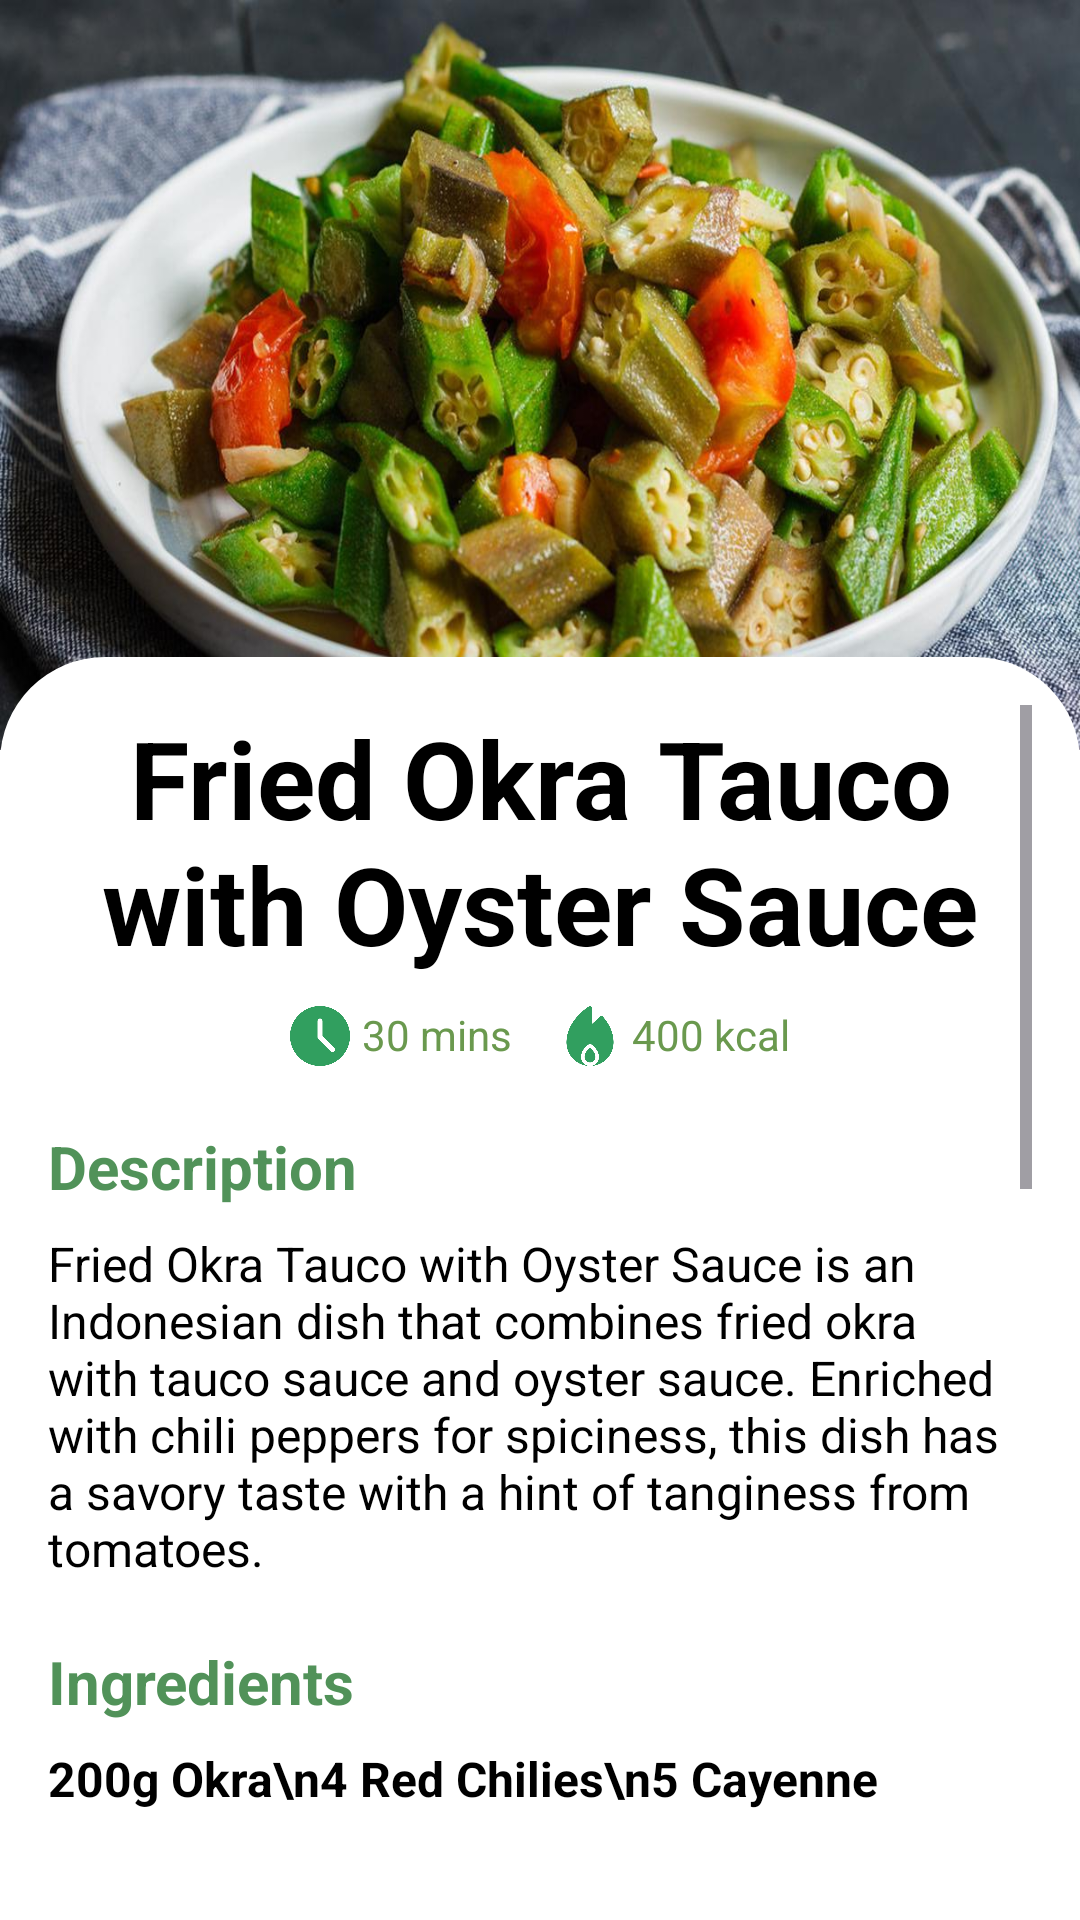

Where icons sit on this 1080 × 1920 app screen, as bbox(x1, y1, x2, y2):
calicon: bbox(566, 1006, 614, 1066)
timeicon: bbox(290, 1006, 350, 1066)
